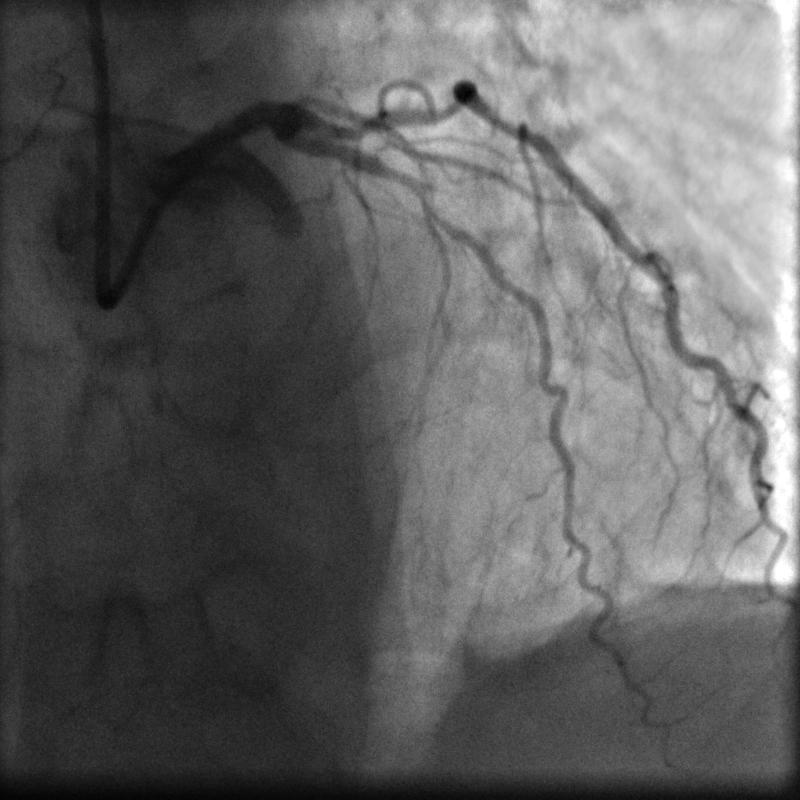Stenosis: (389, 161, 437, 216)
